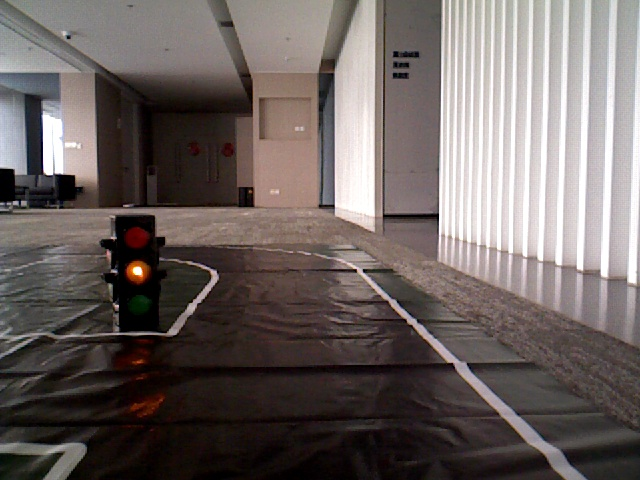yellow: (117, 216, 158, 314)
